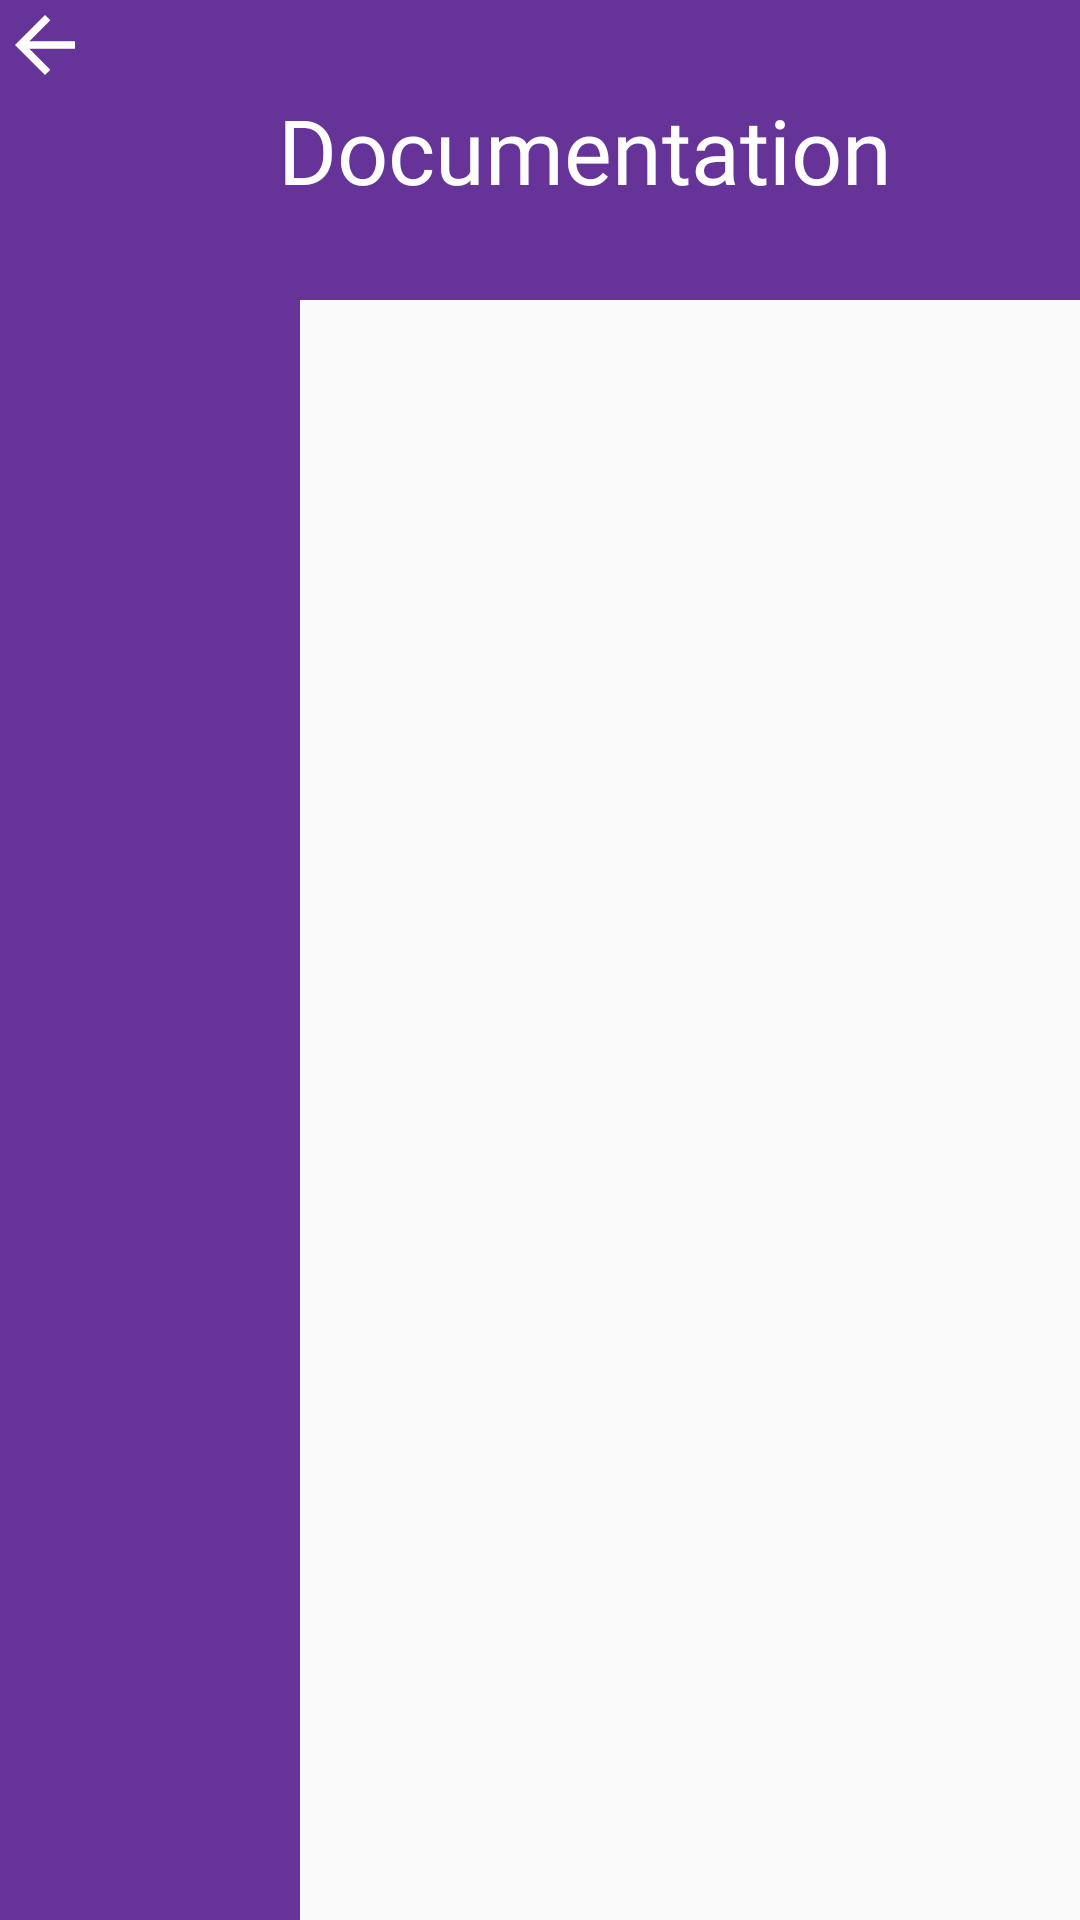

Locate icon controls on the screen. Image size 1080px×1920px, boxes as (x1, y1, x2, y2).
ret: (15, 15, 75, 75)
